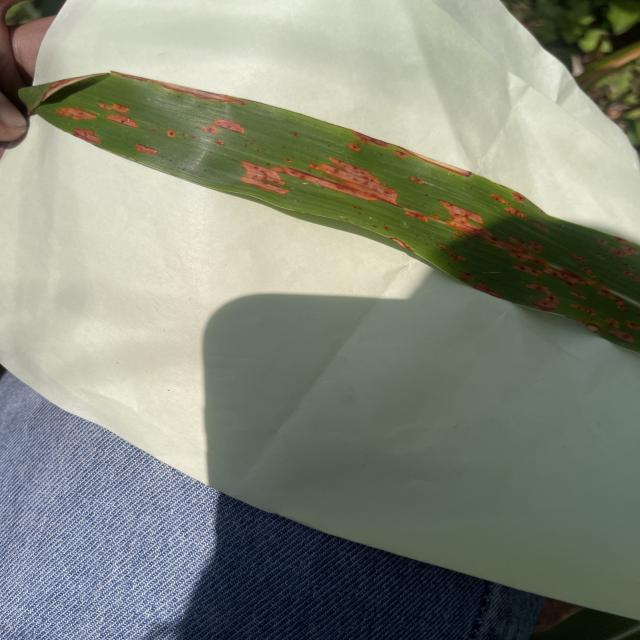millet_rust: (19, 72, 640, 350)
